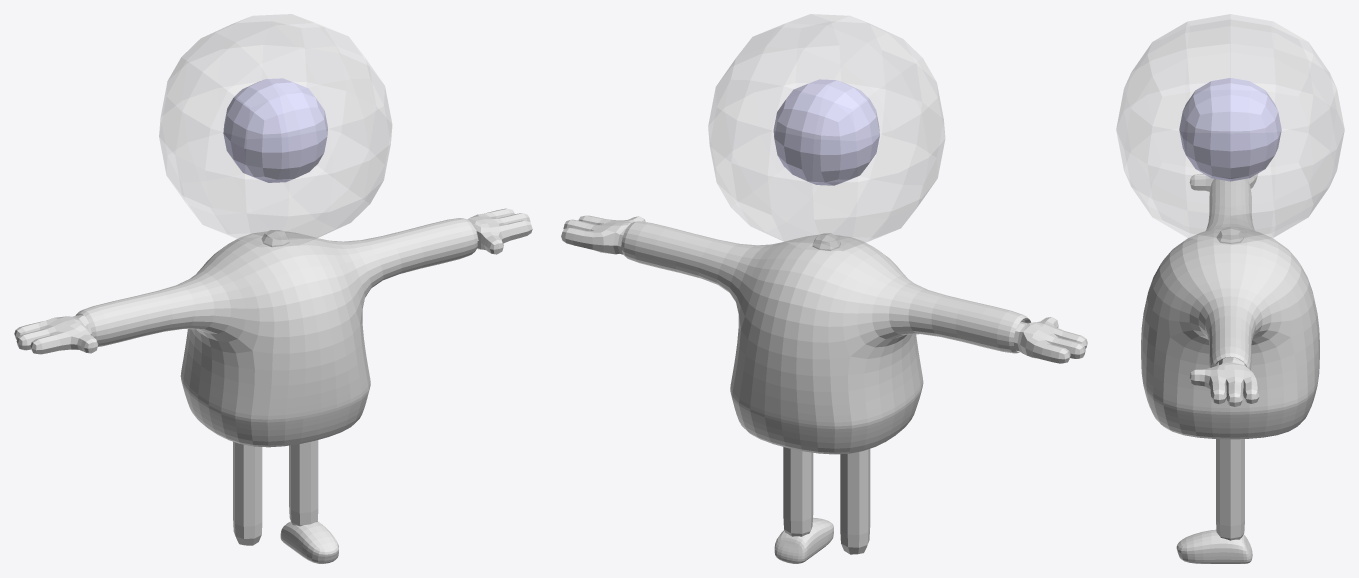
Rendered from stylistic simpleton material test.fbx.
3 renders of one model, left to right at view 1: azimuth 30°, elevation 25°; view 2: azimuth 150°, elevation 25°; view 3: azimuth 270°, elevation 25°, orthographic. The views are drawn at different scales.
Visible parts, largest first — view 1: shirt.001, head_tcell_ext, limbs.001, head_tcell_int, feet.001; view 2: shirt.001, head_tcell_ext, limbs.001, head_tcell_int, feet.001; view 3: head_tcell_ext, shirt.001, head_tcell_int, limbs.001, feet.001.
Boxes of the visible parts, left/top/right/bottom form: shirt.001: left=75, top=218, right=477, bottom=447; head_tcell_ext: left=159, top=14, right=391, bottom=246; limbs.001: left=14, top=208, right=532, bottom=545; head_tcell_int: left=223, top=78, right=327, bottom=182; feet.001: left=280, top=521, right=338, bottom=563; shirt.001: left=621, top=221, right=1030, bottom=454; head_tcell_ext: left=708, top=14, right=944, bottom=250; limbs.001: left=561, top=215, right=1087, bottom=554; head_tcell_int: left=773, top=79, right=879, bottom=185; feet.001: left=774, top=517, right=833, bottom=563; head_tcell_ext: left=1116, top=14, right=1344, bottom=244; shirt.001: left=1141, top=179, right=1319, bottom=439; head_tcell_int: left=1179, top=78, right=1281, bottom=181; limbs.001: left=1189, top=173, right=1259, bottom=540; feet.001: left=1176, top=529, right=1252, bottom=563.
Bounding box in the file's own units: 230 × 227 × 90.38.
